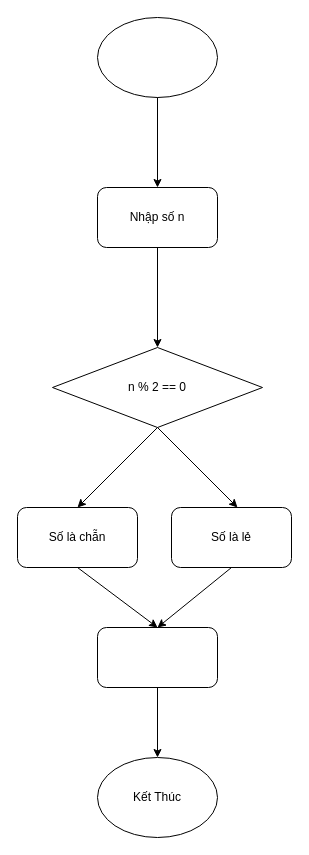
Some shapes in this 309 by 855 pixel diagram are drawn without their labels. Here are the shapes that lost their labels. From the top down, the centre of each, then its label:
pixel 157 57: Bắt Đầu
pixel 157 657: Hiển thị kết quả (Số chẵn or Số lẻ)
